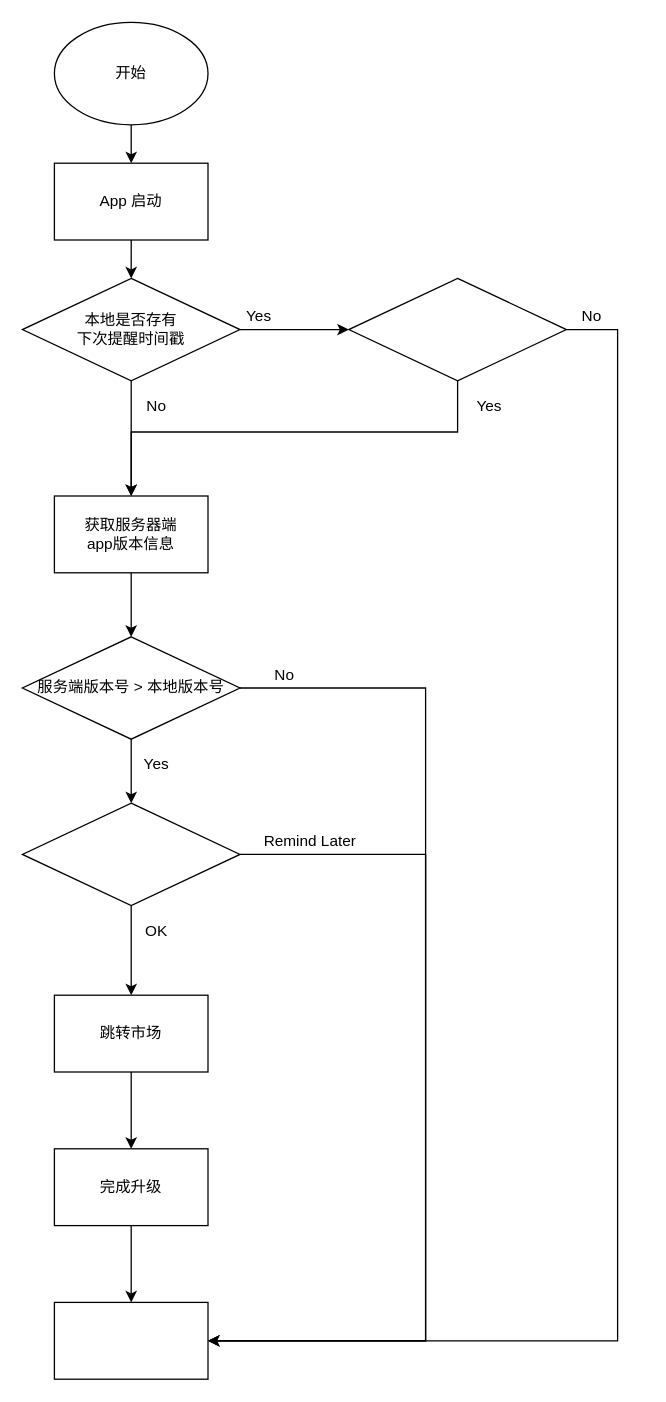
This 666x1402 diagram has some shape labels left out. Each missing label, with the centre of its shape:
"判断： 是否超过 一天" goes at point (457, 329).
"弹窗提醒 用户升级" goes at point (130, 854).
"结束" goes at point (130, 1340).
